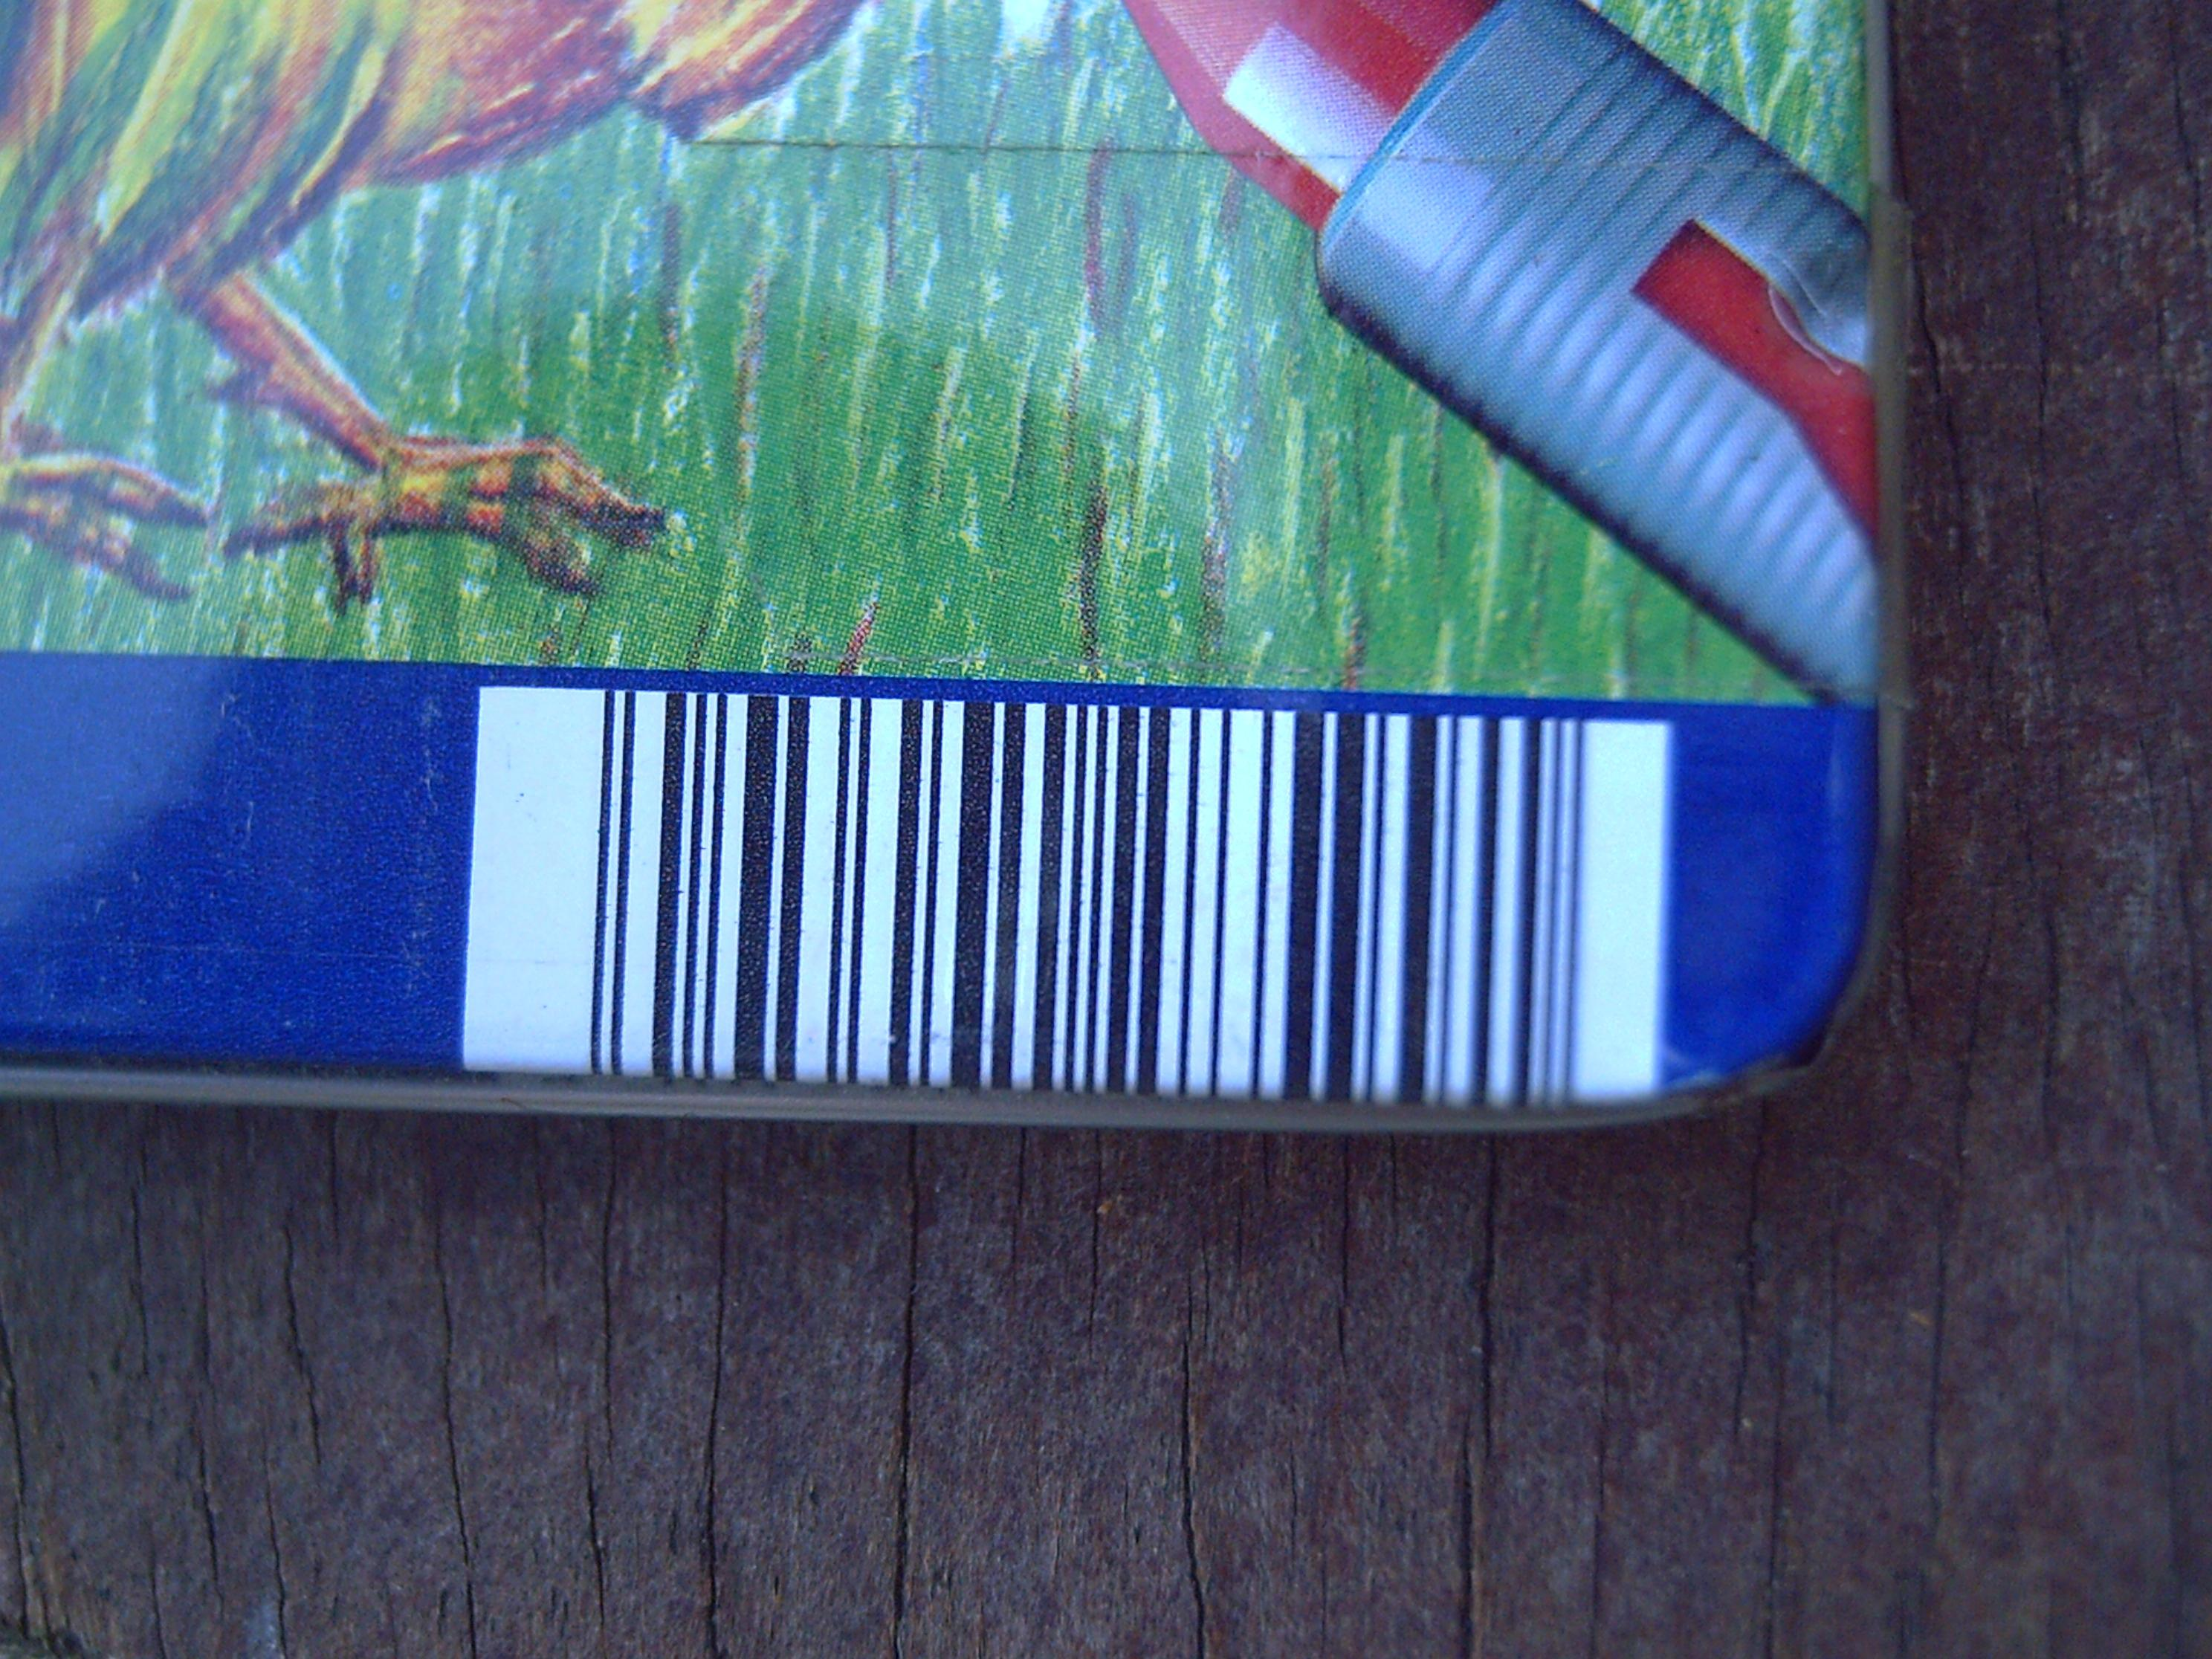barcode: (460, 685, 1669, 1103)
